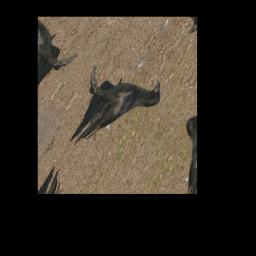Crow: (55, 48, 168, 172)
